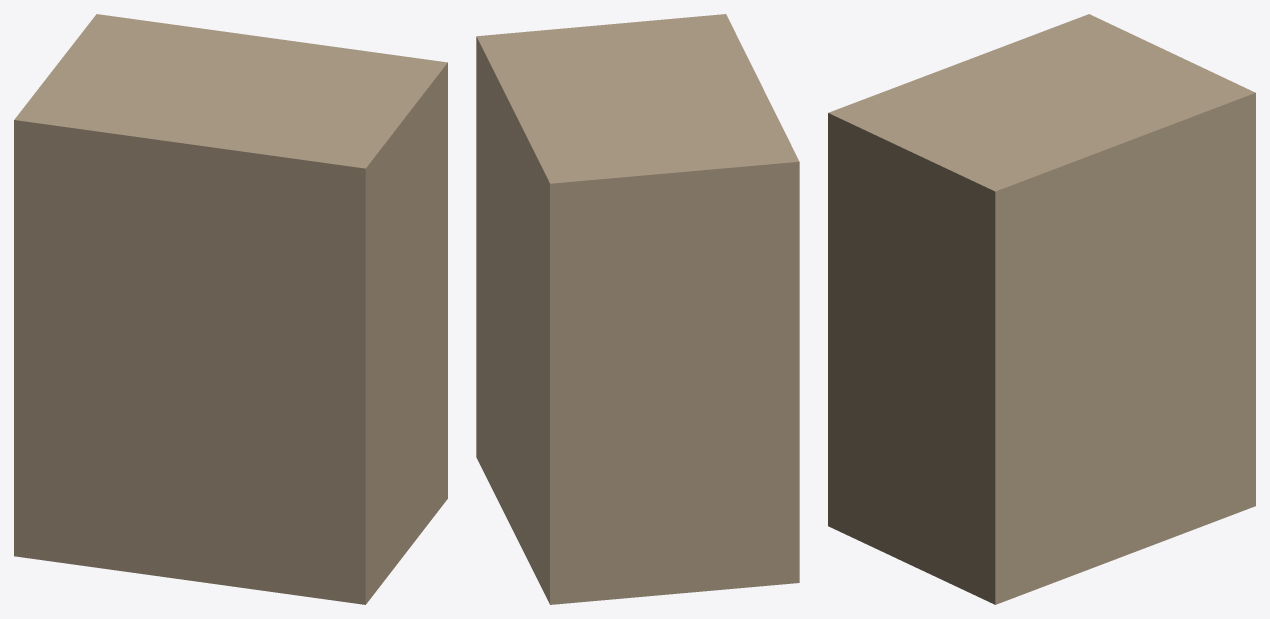
The model's file is bld_99015946.dae.
The picture shows the model from 3 angles, left to right: view 1: azimuth 30°, elevation 25°; view 2: azimuth 150°, elevation 25°; view 3: azimuth 270°, elevation 25°; orthographic projection. The views are drawn at different scales.
Parts seen in each view (by area): view 1: bld_99015946; view 2: bld_99015946; view 3: bld_99015946.
Part boxes in pixels (x1,y1,x2,y2): bld_99015946: (14,14,447,604); bld_99015946: (476,14,799,604); bld_99015946: (828,14,1255,604).
Bounding box in the file's own units: 7.37 × 7.5 × 8.
